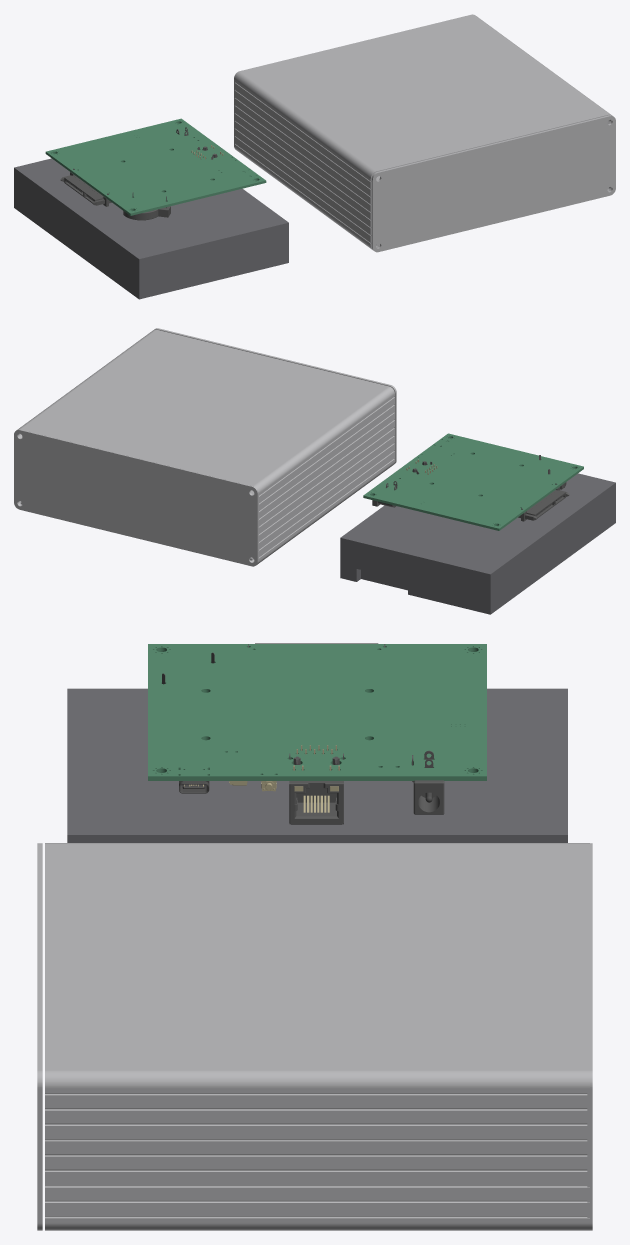
The model's file is assembly-compact.glb.
3 renders of one model, top to bottom at view 1: azimuth 30°, elevation 25°; view 2: azimuth 150°, elevation 25°; view 3: azimuth 270°, elevation 25°, orthographic. The views are drawn at different scales.
Parts seen in each view (by area): view 1: Case, HDD, PCB_Board, PCB_Conn; view 2: Case, HDD, PCB_Board, PCB_Conn; view 3: Case, PCB_Board, HDD, PCB_Conn, PCB_Parts.
Boxes of the visible parts, <box> form: Case: <box>234,14,615,252</box>; HDD: <box>14,158,288,299</box>; PCB_Board: <box>45,118,266,215</box>; PCB_Conn: <box>60,127,217,220</box>; Case: <box>14,328,396,566</box>; HDD: <box>340,473,615,614</box>; PCB_Board: <box>363,433,583,530</box>; PCB_Conn: <box>372,455,569,521</box>; Case: <box>37,843,592,1230</box>; PCB_Board: <box>148,644,486,780</box>; HDD: <box>67,688,567,842</box>; PCB_Conn: <box>162,643,444,824</box>; PCB_Parts: <box>184,745,339,812</box>.
Size of the model in its own units: 0.3183 by 0.0515 by 0.163.
